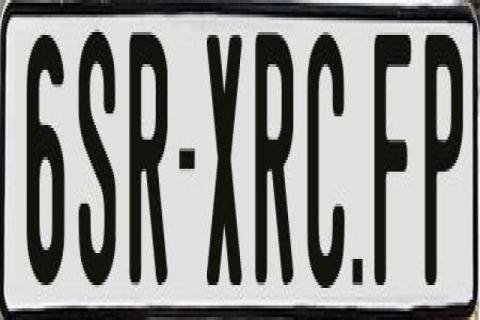0: (26, 35, 68, 291)
C: (307, 32, 351, 288)
F: (372, 32, 414, 291)
P: (423, 27, 461, 286)
R: (126, 29, 167, 282), (253, 29, 292, 294)
S: (79, 27, 116, 297)
X: (204, 26, 245, 288)
